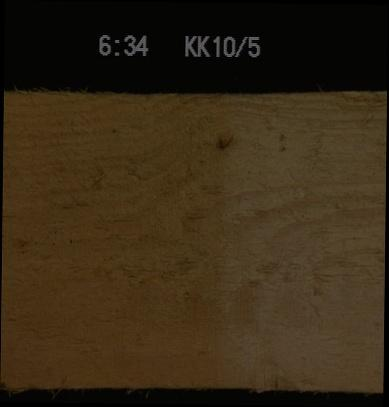split: (309, 258, 366, 293)
